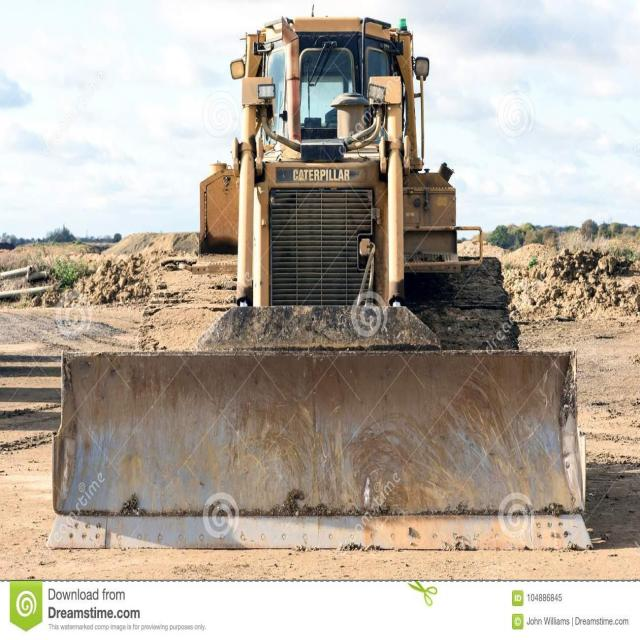Bulldozer: (64, 8, 606, 565)
